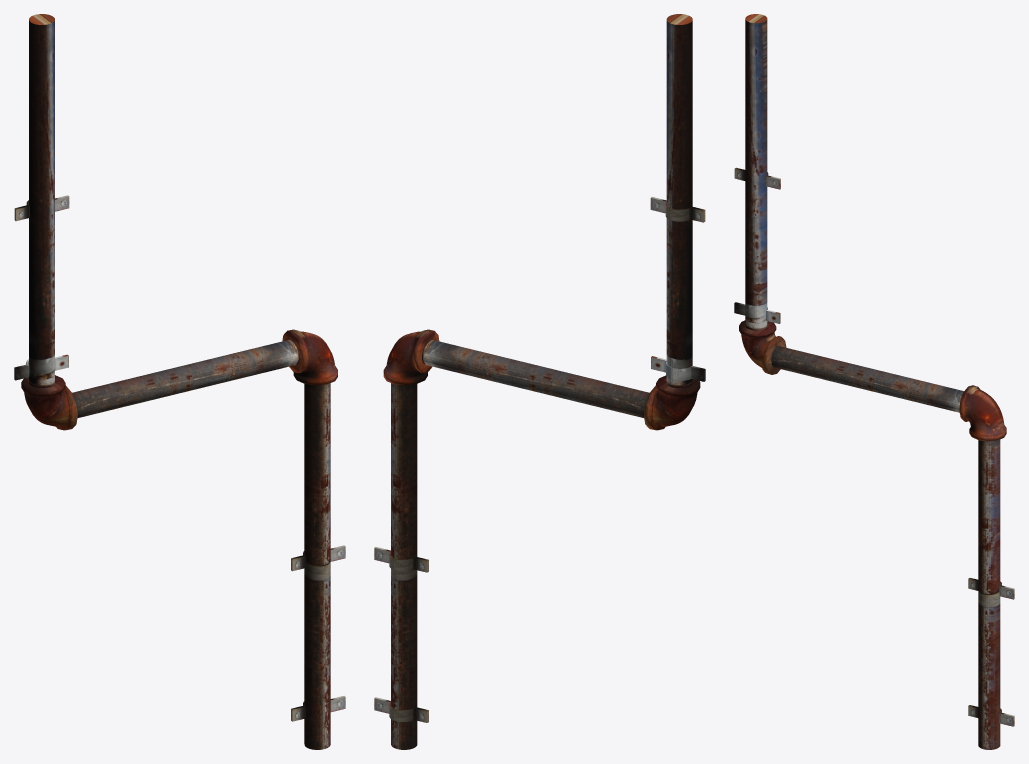
The model's file is RUSTY BIG ONE.fbx.
3 renders of one model, left to right at view 1: azimuth 30°, elevation 25°; view 2: azimuth 150°, elevation 25°; view 3: azimuth 330°, elevation 25°, orthographic. The views are drawn at different scales.
Parts seen in each view (by area): view 1: RUSTY BIG ONE.001; view 2: RUSTY BIG ONE.001; view 3: RUSTY BIG ONE.001.
Part boxes in pixels (x1=…): RUSTY BIG ONE.001: x1=14, y1=14, x2=345, y2=749; RUSTY BIG ONE.001: x1=374, y1=14, x2=705, y2=749; RUSTY BIG ONE.001: x1=734, y1=14, x2=1014, y2=749.
Size of the model in its own units: 11.65 by 26.7 by 1.43.
